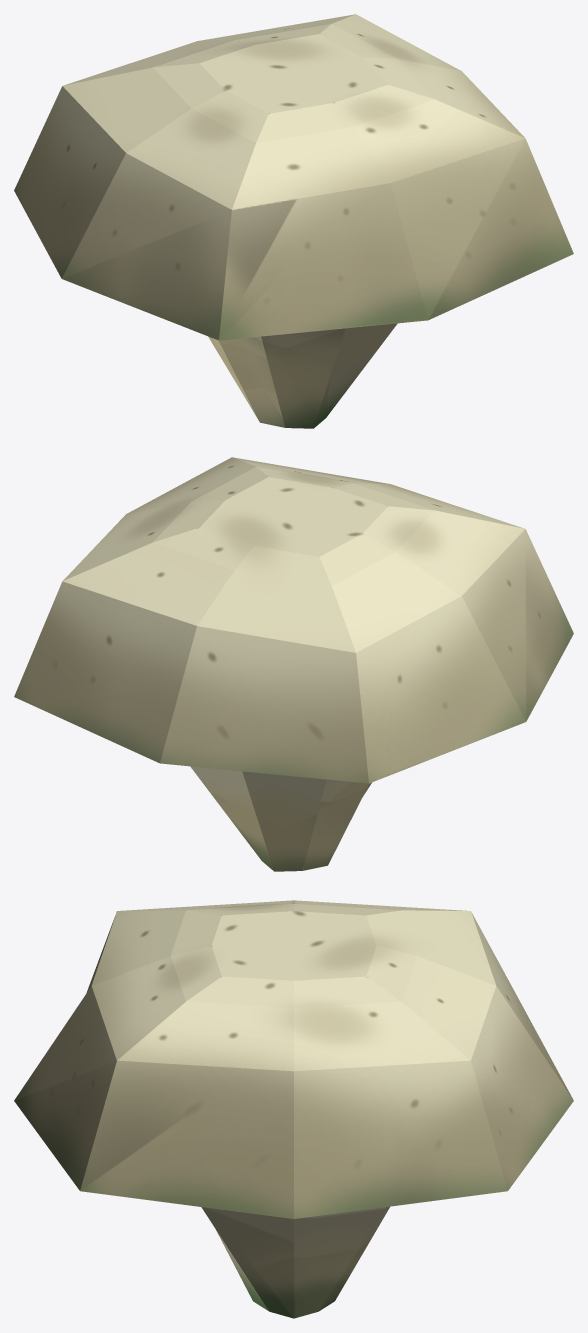
Rendered from Mushroom-4.fbx.
3 renders of one model, top to bottom at view 1: azimuth 30°, elevation 25°; view 2: azimuth 150°, elevation 25°; view 3: azimuth 270°, elevation 25°, orthographic. The views are drawn at different scales.
Parts seen in each view (by area): view 1: Mushroom-4; view 2: Mushroom-4; view 3: Mushroom-4.
Boxes of the visible parts, x1,y1,x2,y2 form: Mushroom-4: [14, 14, 573, 428]; Mushroom-4: [14, 457, 573, 871]; Mushroom-4: [14, 900, 573, 1318].
Size of the model in its own units: 21.66 by 15.17 by 21.66.
